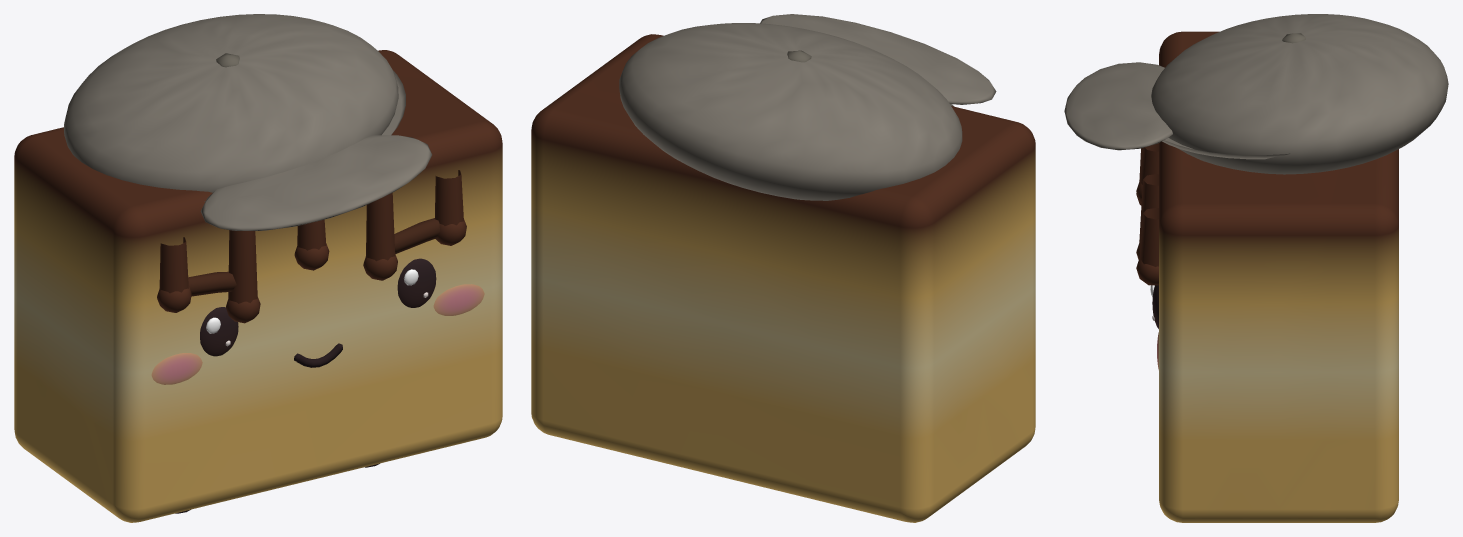
The model's file is folk_sully.glb.
3 renders of one model, left to right at view 1: azimuth 30°, elevation 25°; view 2: azimuth 150°, elevation 25°; view 3: azimuth 270°, elevation 25°, orthographic. The views are drawn at different scales.
Parts seen in each view (by area): view 1: sully_body, sully_eye_r, sully_eye_l; view 2: sully_body; view 3: sully_body.
Boxes of the visible parts, x1,y1,x2,y2 form: sully_body: (14, 14, 502, 522); sully_eye_r: (397, 258, 436, 307); sully_eye_l: (200, 307, 238, 356); sully_body: (531, 14, 1035, 522); sully_body: (1064, 14, 1448, 522).
Bounding box in the file's own units: 0.9315 × 0.9763 × 0.7947.
